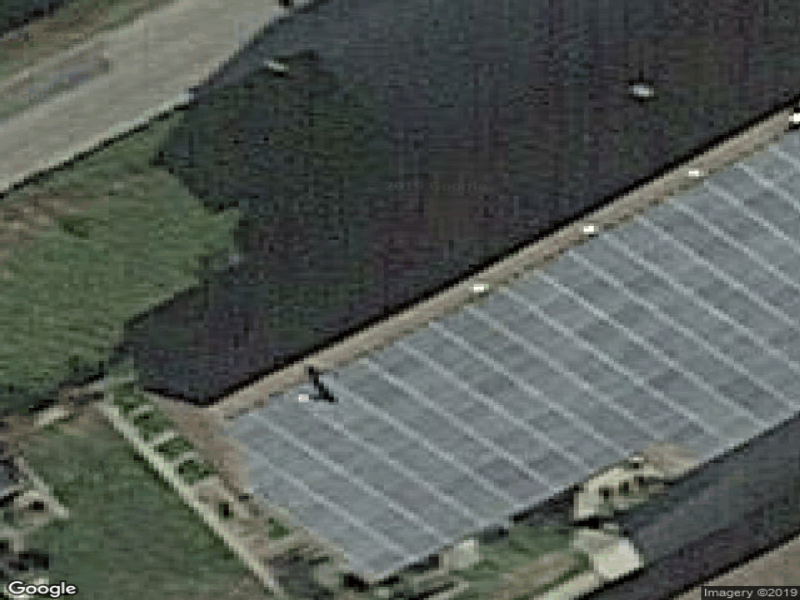pv: (228, 126, 800, 580)
